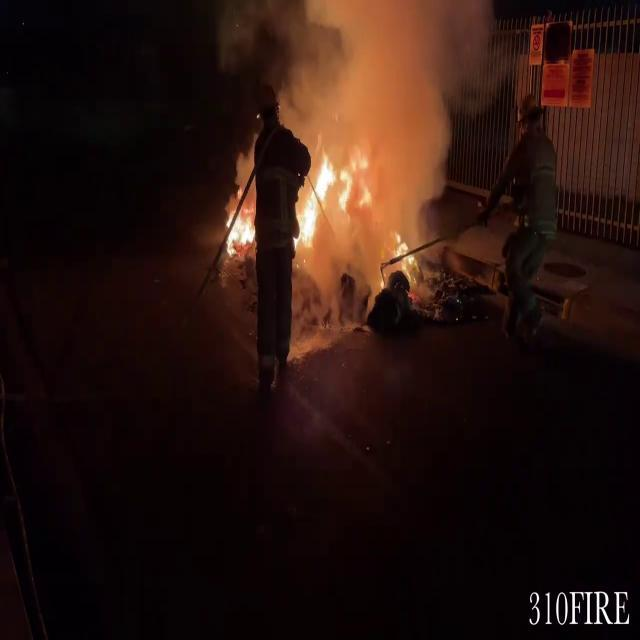Fire: (291, 132, 365, 252), (224, 163, 261, 262)
Smoke: (240, 0, 484, 186)
